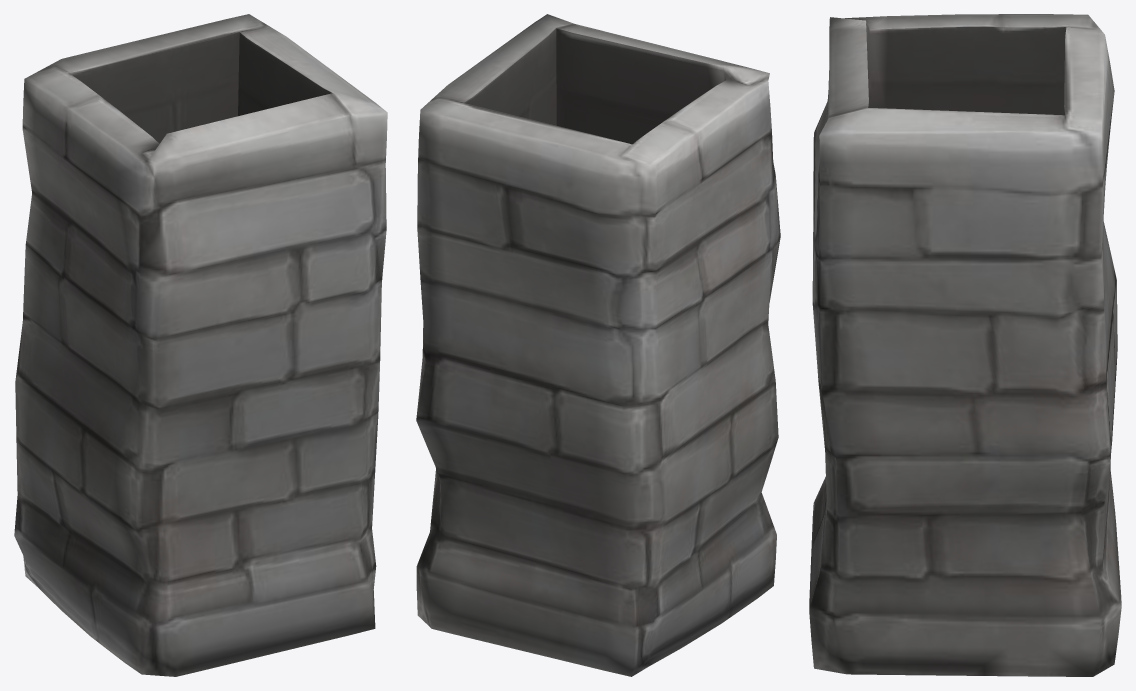
File: SM_Chimney.glb
3 views of the same model, side by side, from view 1: azimuth 30°, elevation 25°; view 2: azimuth 150°, elevation 25°; view 3: azimuth 270°, elevation 25° (orthographic). The views are drawn at different scales.
Visible parts, largest first — view 1: SM_Chimney; view 2: SM_Chimney; view 3: SM_Chimney.
Boxes of the visible parts, bbox=[...] form: SM_Chimney: bbox=[14, 14, 387, 676]; SM_Chimney: bbox=[416, 14, 780, 676]; SM_Chimney: bbox=[809, 14, 1121, 676].
Bounding box in the file's own units: 1.05 × 2.07 × 1.06.
1 material, 1 textured.
